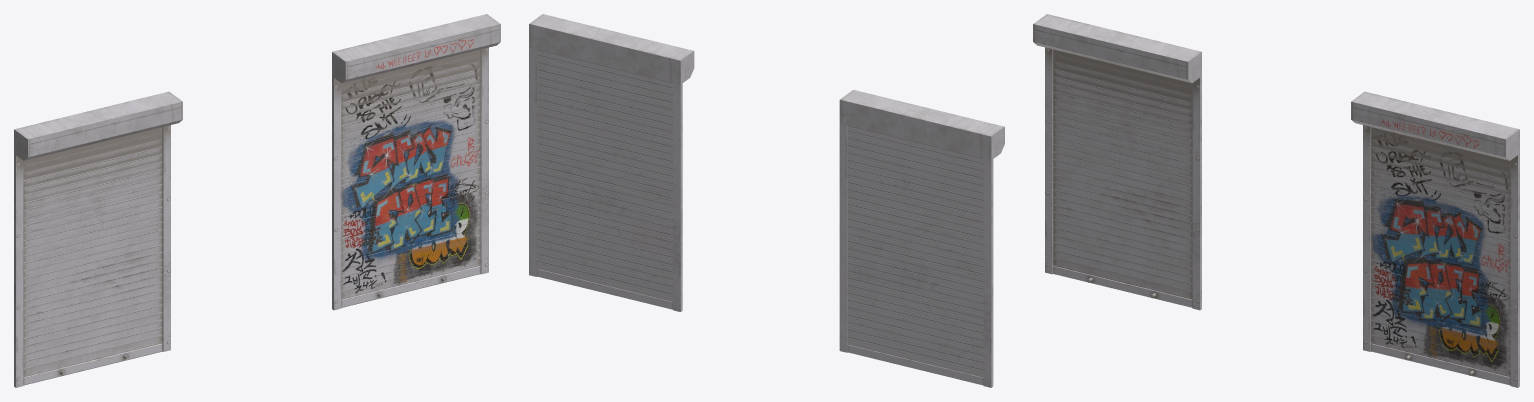
File: rollershutter_window_03.optimized.glb
The picture shows the model from 3 angles, left to right: view 1: azimuth 30°, elevation 25°; view 2: azimuth 150°, elevation 25°; view 3: azimuth 330°, elevation 25°; orthographic projection. The views are drawn at different scales.
Visible parts, largest first — view 1: rollershutter_window_03_graffiti, rollershutter_window_03; view 2: rollershutter_window_03, rollershutter_window_03_graffiti; view 3: rollershutter_window_03, rollershutter_window_03_graffiti.
Part boxes in pixels (x1,y1,x2,y2): rollershutter_window_03_graffiti: (332,14,500,310); rollershutter_window_03: (14,91,182,387); rollershutter_window_03: (839,90,1004,387); rollershutter_window_03_graffiti: (529,14,694,311); rollershutter_window_03: (1033,14,1201,310); rollershutter_window_03_graffiti: (1351,91,1519,387).
Bounding box in the file's own units: 2.98 × 1.55 × 0.1531.
2 materials, 2 textured.
